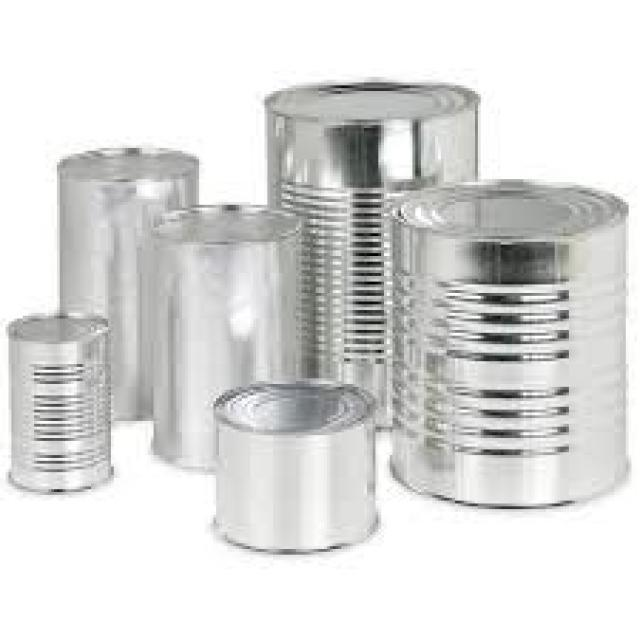recyclable: (388, 175, 628, 512), (262, 74, 480, 422), (146, 203, 304, 476), (56, 148, 200, 422), (210, 376, 380, 559), (7, 309, 118, 494)
